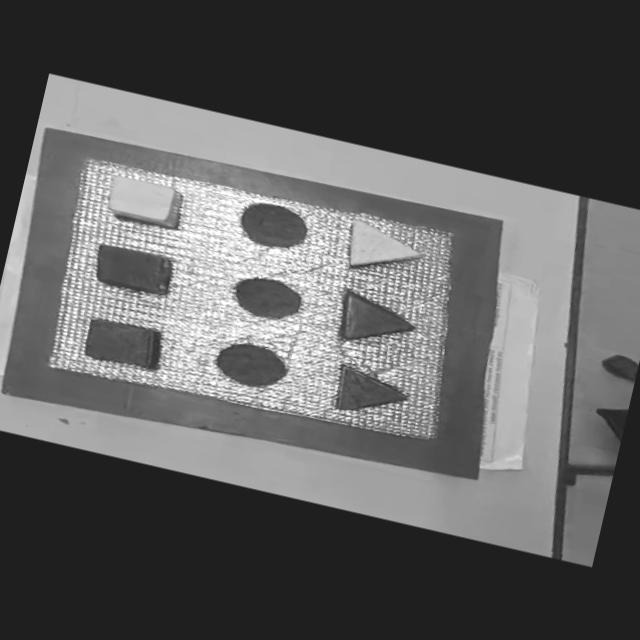bcube: (80, 314, 166, 373)
btriangle: (329, 364, 414, 424)
mtcircle: (210, 337, 292, 393), (235, 197, 312, 255), (229, 272, 306, 326)
rcube: (89, 240, 176, 298)
rtriangle: (334, 291, 420, 354)
wb: (38, 147, 478, 452)
ycube: (103, 172, 184, 229)
ytriangle: (340, 218, 428, 284)
